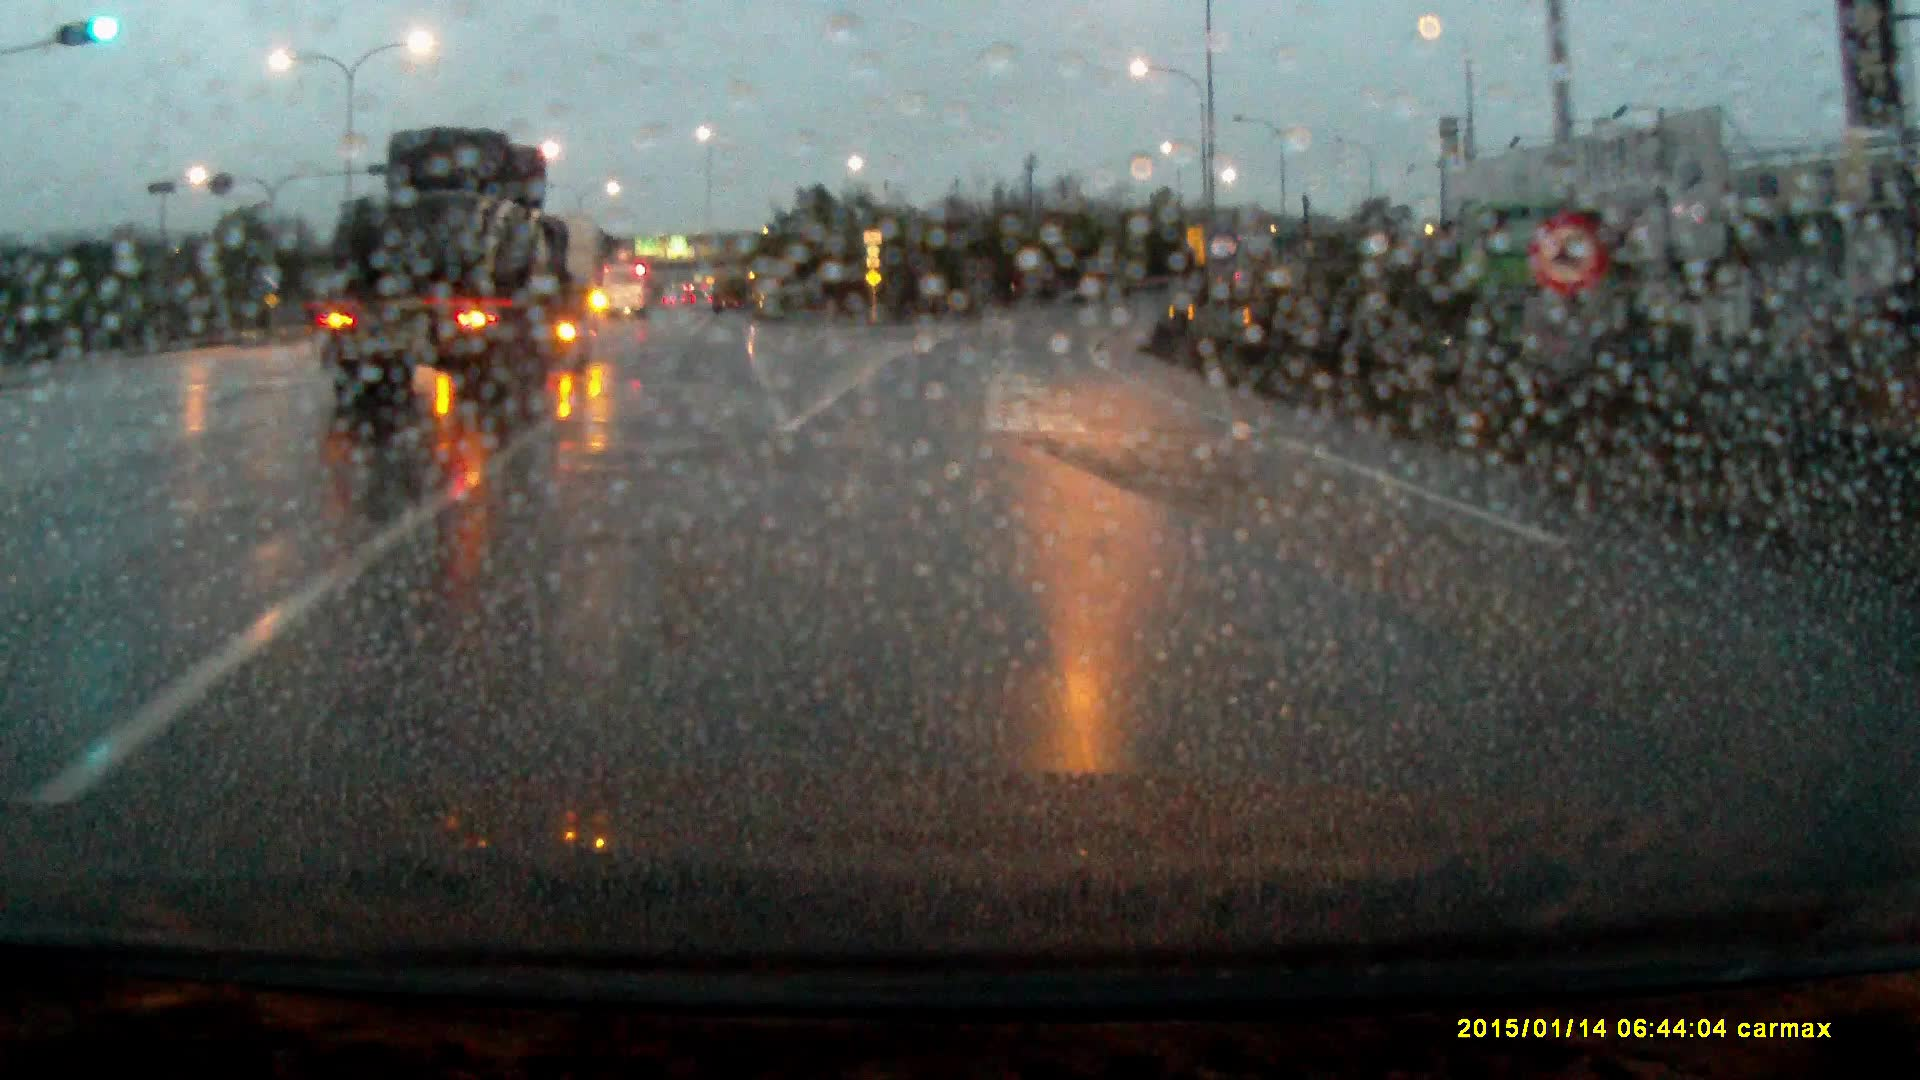vehicle: (309, 131, 608, 421), (603, 262, 658, 320)
